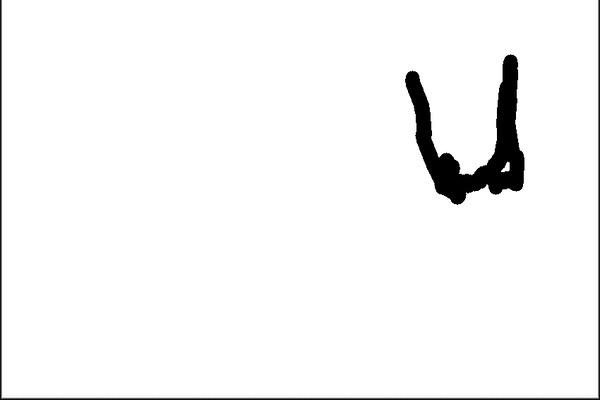U: (395, 52, 532, 209)
